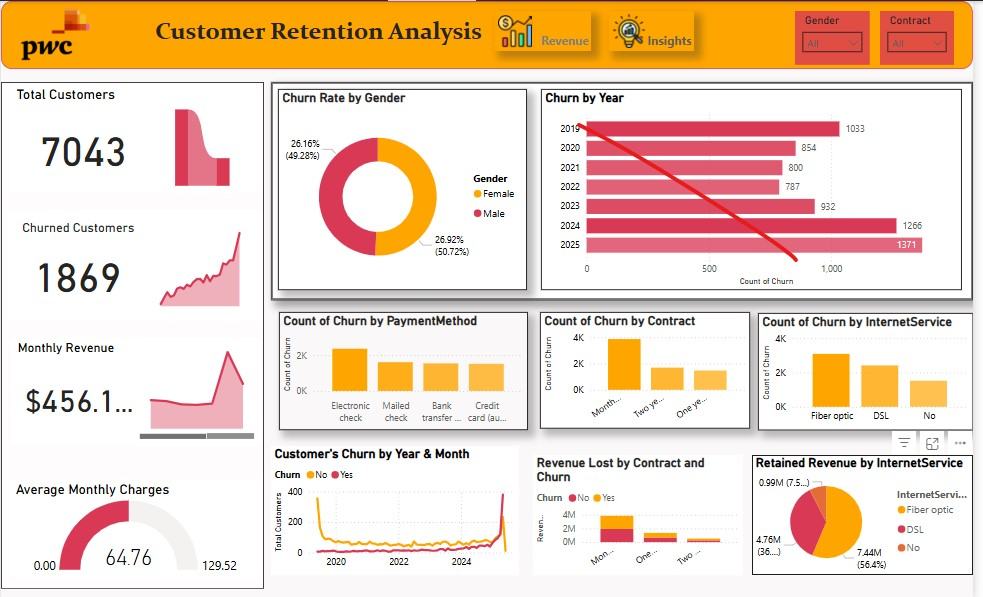

The dashboard page shown, as its layout file describes it:
{"tool":"powerbi","page":{"name":"Dashboard","canvas":[1300,800],"ordinal":0},"visuals":[{"type":"shape","box":[5.9,90.7,346.5,695.9],"z":0},{"type":"shape","box":[361.3,90.7,924.9,309.3],"z":1000},{"type":"card","title":"Total Customers","fields":{"Values":["All Measures.Total Customers"]},"box":[10.4,108.6,197.8,148.7],"z":2000},{"type":"card","title":"Churned Customers","fields":{"Values":["All Measures.Churned Customers"]},"box":[8.9,279.6,185.9,148.7],"z":3000},{"type":"clusteredBarChart","title":"Churn by Year","fields":{"Y":["CountNonNull(Churn-Dataset.Churn)"],"Category":["Churn-Dataset.EstimatedStartDate.Variation.Date Hierarchy.Year"]},"box":[713.8,111.5,563.6,275.1],"z":4000},{"type":"gauge","fields":{"Y":["All Measures.Average Monthly Charges"]},"box":[10.4,637.9,337.5,136.8],"z":5000},{"type":"card","title":"Monthly Revenue","fields":{"Values":["All Measures.Total Monthly Revenue"]},"box":[13.4,449.1,181.4,144.2],"z":6000},{"type":"columnChart","fields":{"Y":["CountNonNull(Churn-Dataset.Churn)"],"Category":["Churn-Dataset.PaymentMethod"]},"box":[371.7,416.4,333.1,157.6],"z":7000},{"type":"clusteredColumnChart","fields":{"Category":["Churn-Dataset.Contract"],"Y":["CountNonNull(Churn-Dataset.Churn)"]},"box":[721.2,416.4,281,156.1],"z":8000},{"type":"clusteredColumnChart","fields":{"Y":["CountNonNull(Churn-Dataset.Churn)"],"Category":["Churn-Dataset.InternetService"]},"box":[1012.6,417.8,275.1,156.1],"z":9000},{"type":"stackedAreaChart","fields":{"Category":["Churn-Dataset.EstimatedStartDate.Variation.Date Hierarchy.Year","Churn-Dataset.EstimatedStartDate.Variation.Date Hierarchy.Quarter"],"Y":["All Measures.Churn Rate"]},"box":[184.4,279.6,163.6,148.7],"z":10000},{"type":"textbox","box":[0,0,1280,90.7],"z":11000},{"type":"image","box":[4.1,0,140.4,90.8],"z":12000},{"type":"donutChart","title":"Churn Rate by Gender","fields":{"Category":["Churn-Dataset.gender"],"Y":["All Measures.Churn Rate"]},"box":[370.3,117.5,333.1,269.1],"z":13000},{"type":"areaChart","fields":{"Category":["Churn-Dataset.EstimatedStartDate.Variation.Date Hierarchy.Month"],"Y":["Sum(Churn-Dataset.TotalCharges)"]},"box":[177,450.6,171,144.2],"z":14000},{"type":"ribbonChart","fields":{"Category":["Churn-Dataset.Churn"],"Y":["All Measures.Total Customers"]},"box":[194.8,108.6,153.2,148.7],"z":15000},{"type":"lineChart","title":"Customer''s Churn by Year & Month","fields":{"Y":["All Measures.Total Customers"],"Category":["Churn-Dataset.EstimatedStartDate.Variation.Date Hierarchy.Year","Churn-Dataset.EstimatedStartDate.Variation.Date Hierarchy.Month"],"Series":["Churn-Dataset.Churn"]},"box":[361.3,594.8,331.6,148.7],"z":16000},{"type":"columnChart","fields":{"Y":["All Measures.Revenue Lost"],"Category":["Churn-Dataset.Contract"],"Series":["Churn-Dataset.Churn"]},"box":[712.3,606.7,281,160.6],"z":17000},{"type":"pieChart","fields":{"Y":["All Measures.Retain Revenue"],"Category":["Churn-Dataset.InternetService"]},"box":[1005.2,606.7,275.1,160.6],"z":18000},{"type":"actionButton","box":[813.4,13.8,114.2,53.7],"z":19000},{"type":"actionButton","title":"Revenue","box":[660.6,13.8,129.4,53.7],"z":20000},{"type":"slicer","fields":{"Values":["Churn-Dataset.Contract"]},"box":[1175.4,13.8,99.1,71.6],"z":21000},{"type":"slicer","fields":{"Values":["Churn-Dataset.gender"]},"box":[1062.5,13.8,100.5,71.6],"z":22000}]}

Visuals, with their boxes in screenshot pixels (x1, y1, x2, y2), scaled from the page's 1300x800 canvas onto the 983x597 screenshot:
shape: rect(4, 68, 266, 587)
shape: rect(273, 68, 973, 298)
"Total Customers" card: rect(8, 81, 157, 192)
"Churned Customers" card: rect(7, 209, 147, 320)
"Churn by Year" clusteredBarChart: rect(540, 83, 966, 289)
gauge - All Measures.Average Monthly Charges: rect(8, 476, 263, 578)
"Monthly Revenue" card: rect(10, 335, 147, 443)
columnChart - CountNonNull(Churn-Dataset.Churn) x Churn-Dataset.PaymentMethod: rect(281, 311, 533, 428)
clusteredColumnChart - Churn-Dataset.Contract x CountNonNull(Churn-Dataset.Churn): rect(545, 311, 758, 427)
clusteredColumnChart - CountNonNull(Churn-Dataset.Churn) x Churn-Dataset.InternetService: rect(766, 312, 974, 428)
stackedAreaChart - Churn-Dataset.EstimatedStartDate.Variation.Date Hierarchy.Year x Churn-Dataset.EstimatedStartDate.Variation.Date Hierarchy.Quarter: rect(139, 209, 263, 320)
textbox: rect(0, 0, 968, 68)
image: rect(3, 0, 109, 68)
"Churn Rate by Gender" donutChart: rect(280, 88, 532, 289)
areaChart - Churn-Dataset.EstimatedStartDate.Variation.Date Hierarchy.Month x Sum(Churn-Dataset.TotalCharges): rect(134, 336, 263, 444)
ribbonChart - Churn-Dataset.Churn x All Measures.Total Customers: rect(147, 81, 263, 192)
"Customer''s Churn by Year & Month" lineChart: rect(273, 444, 524, 555)
columnChart - All Measures.Revenue Lost x Churn-Dataset.Contract: rect(539, 453, 751, 573)
pieChart - All Measures.Retain Revenue x Churn-Dataset.InternetService: rect(760, 453, 968, 573)
actionButton: rect(615, 10, 701, 50)
"Revenue" actionButton: rect(500, 10, 597, 50)
slicer - Churn-Dataset.Contract: rect(889, 10, 964, 64)
slicer - Churn-Dataset.gender: rect(803, 10, 879, 64)
